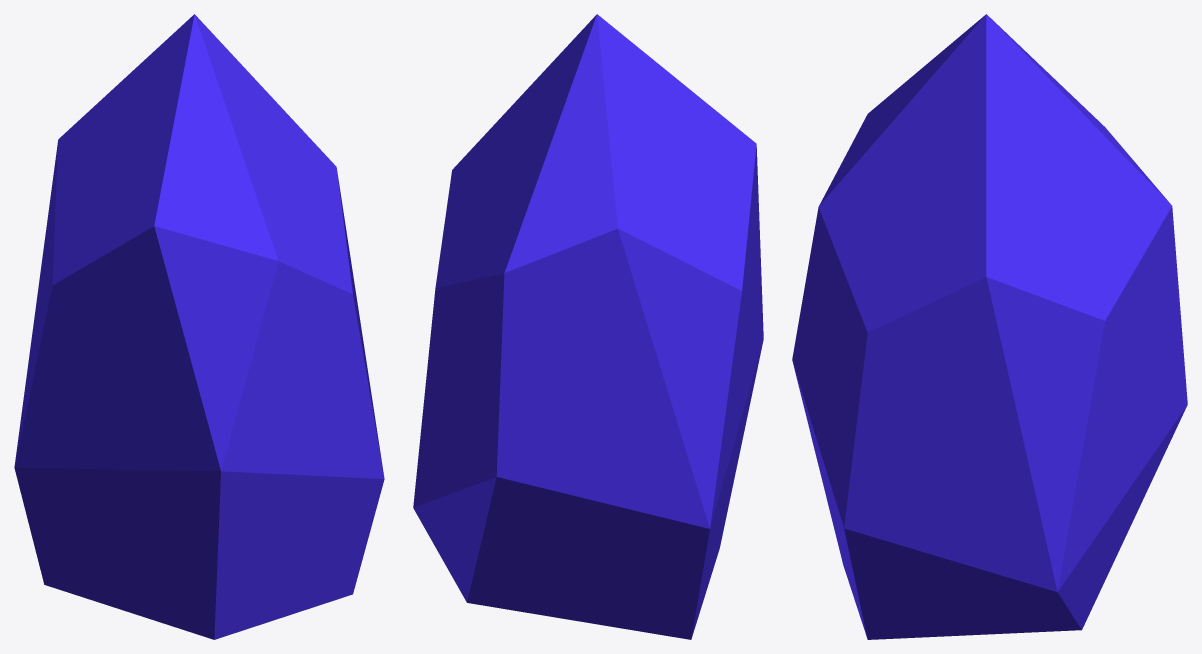
Rendered from cristal_broken1.fbx.
3 renders of one model, left to right at view 1: azimuth 30°, elevation 25°; view 2: azimuth 150°, elevation 25°; view 3: azimuth 270°, elevation 25°, orthographic. The views are drawn at different scales.
Visible parts, largest first — view 1: Cylinder099; view 2: Cylinder099; view 3: Cylinder099.
Boxes of the visible parts, box(x1,y1,x2,y2) form: Cylinder099: box(14, 14, 384, 639); Cylinder099: box(413, 14, 763, 639); Cylinder099: box(792, 14, 1187, 639).
Bounding box in the file's own units: 6.53 × 12.06 × 7.51.
